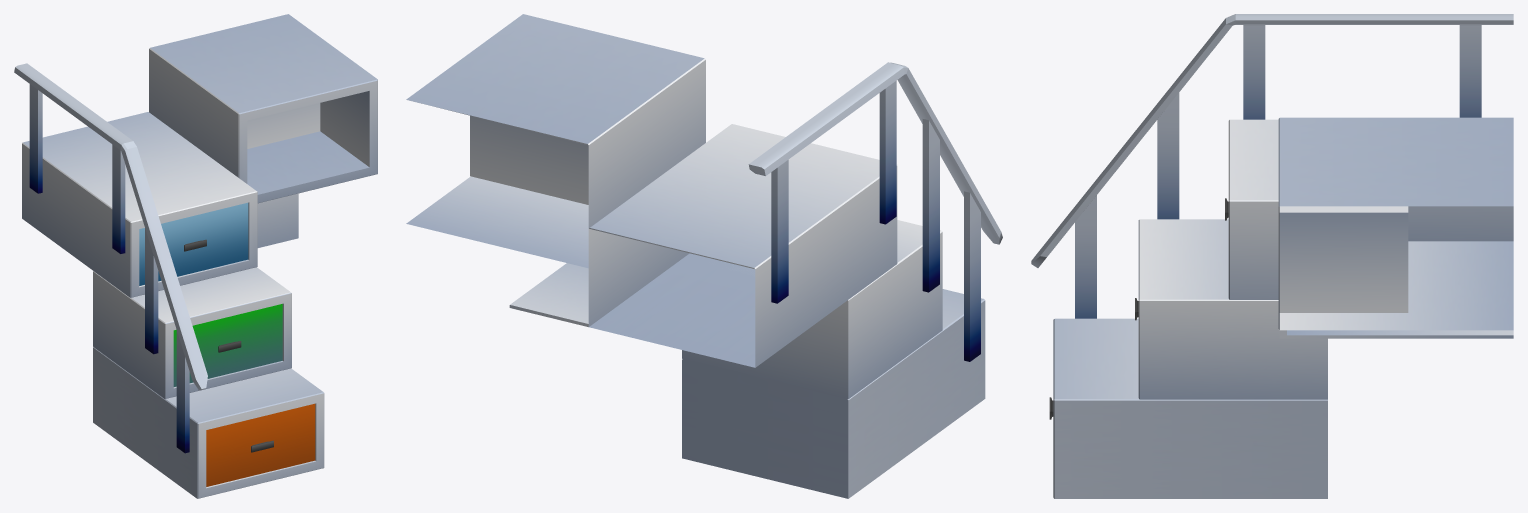
Rendered from Bed_drawers.fbx.
3 views of the same model, side by side, from view 1: azimuth 30°, elevation 25°; view 2: azimuth 150°, elevation 25°; view 3: azimuth 270°, elevation 25° (orthographic). The views are drawn at different scales.
Parts seen in each view (by area): view 1: Drawer_3, Drawer_2, Drawer_4, Drawer_5, Handle_stairs, Secret_Compartiment; view 2: Drawer_2, Drawer_3, Drawer_4, Handle_stairs, Drawer_5, Secret_Compartiment; view 3: Drawer_3, Drawer_4, Drawer_5, Handle_stairs, Drawer_2, Secret_Compartiment.
Boxes of the visible parts, x1,y1,x2,y2 form: Drawer_3: (149,14,377,203); Drawer_2: (22,112,257,297); Drawer_4: (93,347,324,498); Drawer_5: (93,267,291,398); Handle_stairs: (14,63,207,453); Secret_Compartiment: (257,193,298,247); Drawer_2: (588,124,897,367); Drawer_3: (406,14,705,268); Drawer_4: (682,289,985,498); Handle_stairs: (748,62,1002,361); Drawer_5: (682,220,942,399); Secret_Compartiment: (509,263,588,326); Drawer_3: (1278,117,1513,330); Drawer_4: (1049,318,1327,498); Drawer_5: (1135,219,1327,399); Handle_stairs: (1031,14,1513,318); Drawer_2: (1225,119,1278,299); Secret_Compartiment: (1279,330,1513,338).
Bounding box in the file's own units: 15.12 × 16.11 × 17.58.
Materials: 1 (1 with a texture image).
